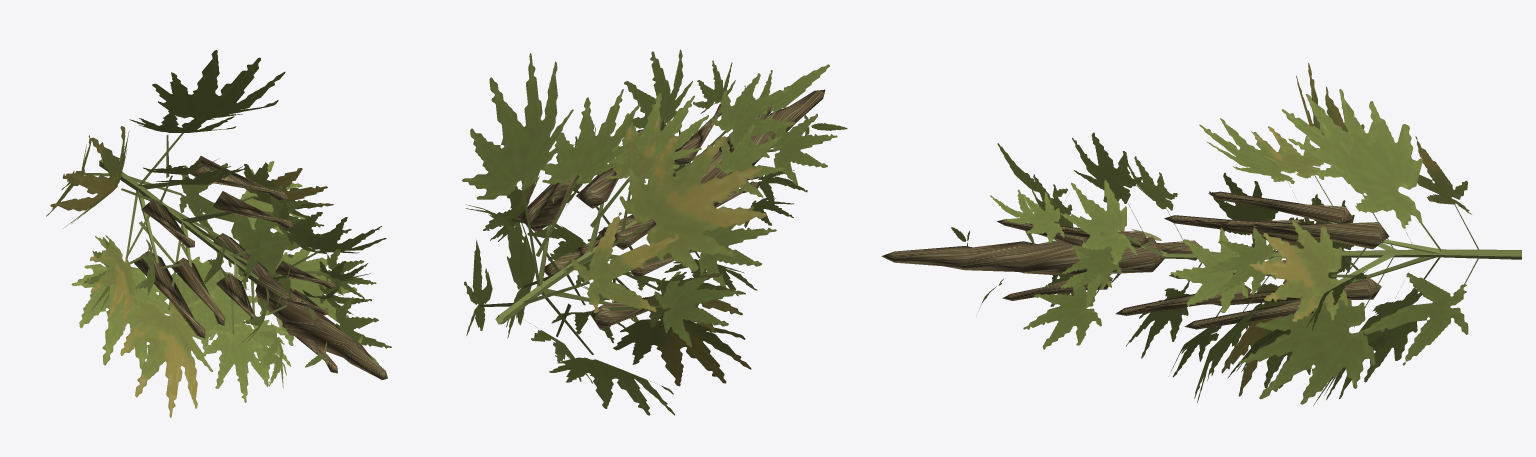
File: p_dark_haze_ripe_c1_cards.obj
The picture shows the model from 3 angles, left to right: view 1: azimuth 30°, elevation 25°; view 2: azimuth 150°, elevation 25°; view 3: azimuth 270°, elevation 25°; orthographic projection. The views are drawn at different scales.
Bounding box in the file's own units: 1.32 × 1.48 × 2.03.
1 material, 1 textured.
